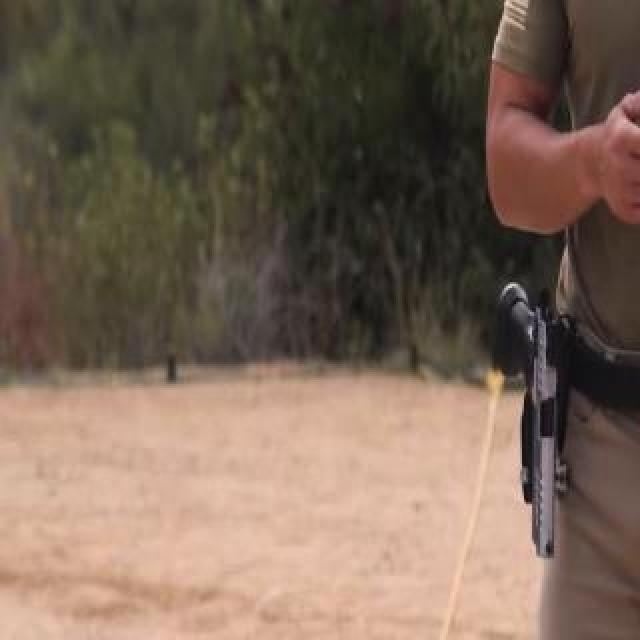Guns: (481, 261, 609, 576)
